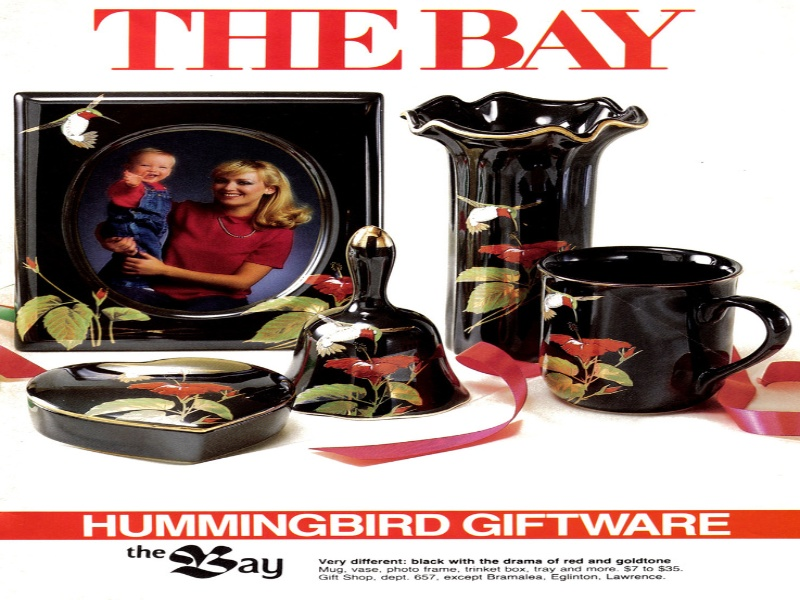cup: (530, 233, 786, 419)
person: (103, 145, 290, 308)
